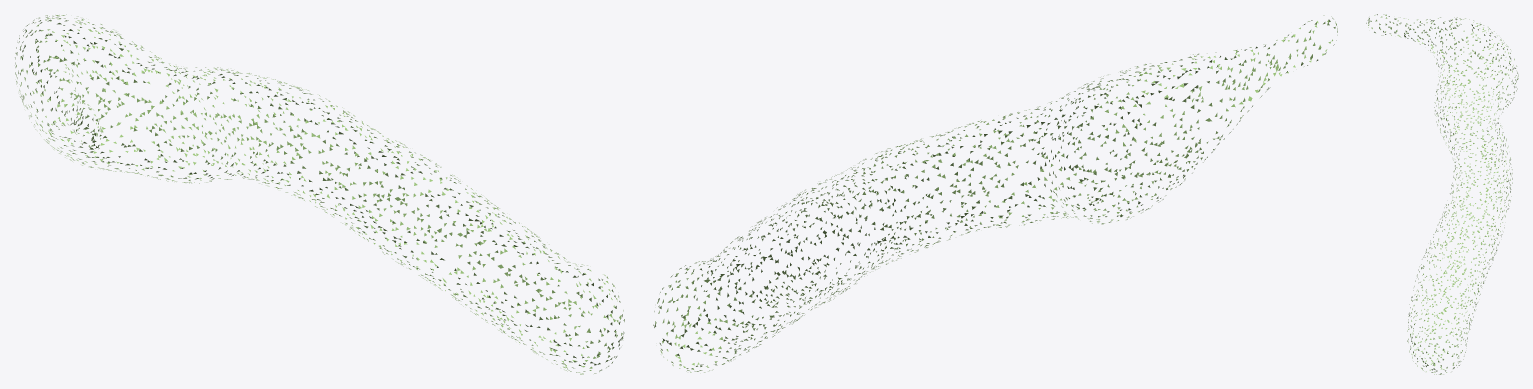
The model's file is morph_013.glb.
The picture shows the model from 3 angles, left to right: view 1: azimuth 30°, elevation 25°; view 2: azimuth 150°, elevation 25°; view 3: azimuth 270°, elevation 25°; orthographic projection. The views are drawn at different scales.
Bounding box in the file's own units: 113 × 81.68 × 49.6.
